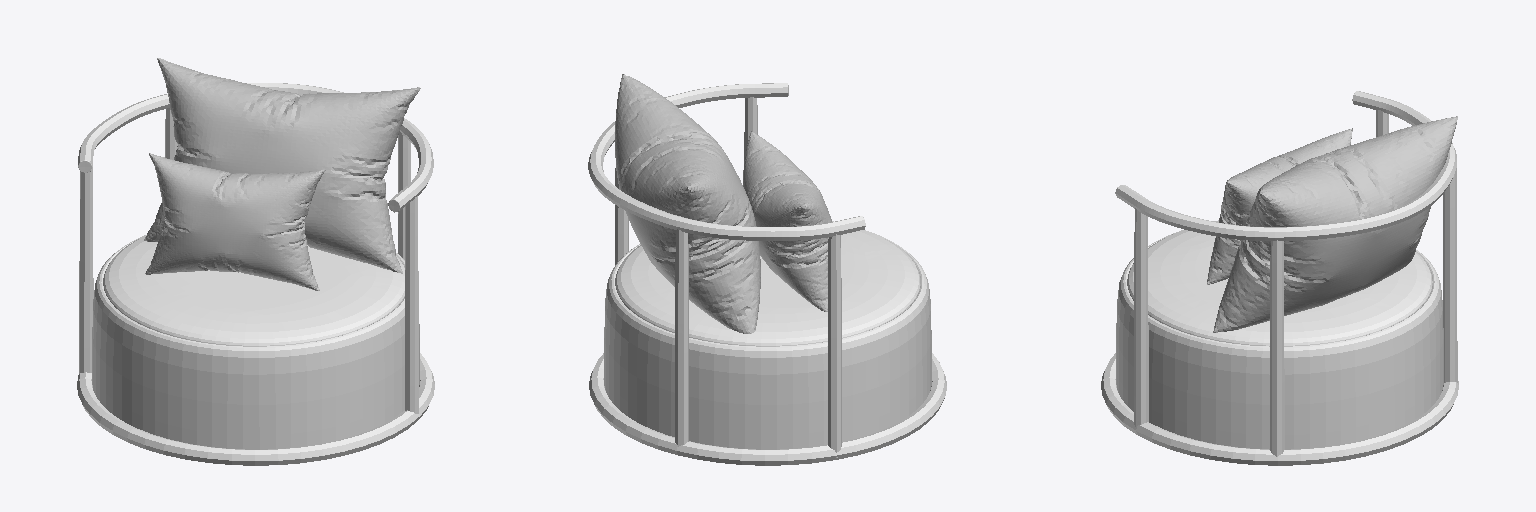
File: Chair.obj
The picture shows the model from 3 angles: view 1: azimuth 30°, elevation 25°; view 2: azimuth 150°, elevation 25°; view 3: azimuth 270°, elevation 25°; orthographic projection.
Visible parts, largest first — view 1: Chair, Pillow_01, iron, Pillow_02; view 2: Chair, iron, Pillow_01, Pillow_02; view 3: Chair, Pillow_01, iron, Pillow_02.
Boxes of the visible parts, box(x1,y1,x2,y2) form: Chair: box(92, 235, 419, 449); Pillow_01: box(144, 58, 420, 273); iron: box(77, 83, 434, 465); Pillow_02: box(145, 153, 325, 290); Chair: box(604, 221, 931, 449); iron: box(588, 83, 946, 465); Pillow_01: box(615, 74, 760, 333); Pillow_02: box(743, 131, 831, 311); Chair: box(1116, 220, 1443, 449); Pillow_01: box(1213, 116, 1457, 332); iron: box(1101, 91, 1458, 465); Pillow_02: box(1207, 128, 1352, 284).
Size of the model in its own units: 1.2 by 1.02 by 1.2.